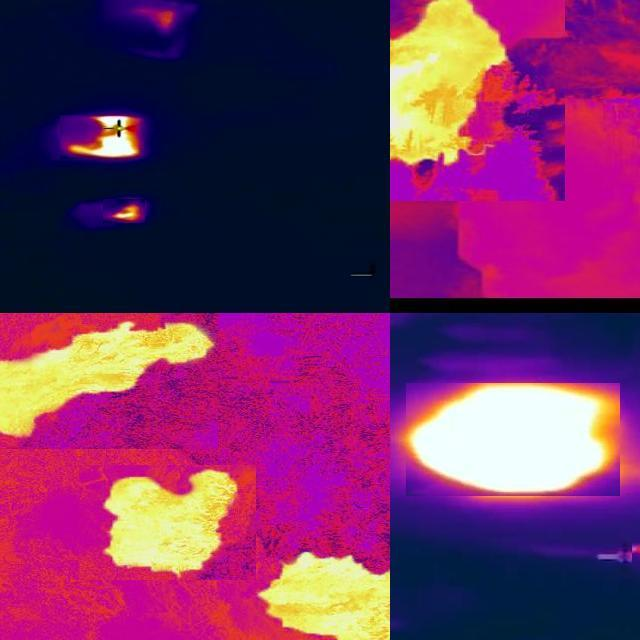fire: (1, 314, 215, 444), (407, 383, 621, 496), (388, 3, 513, 168), (103, 467, 242, 580), (261, 548, 391, 640), (61, 115, 145, 159), (105, 199, 147, 223)
